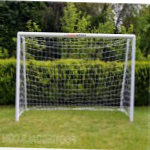goals: (13, 26, 136, 124)
